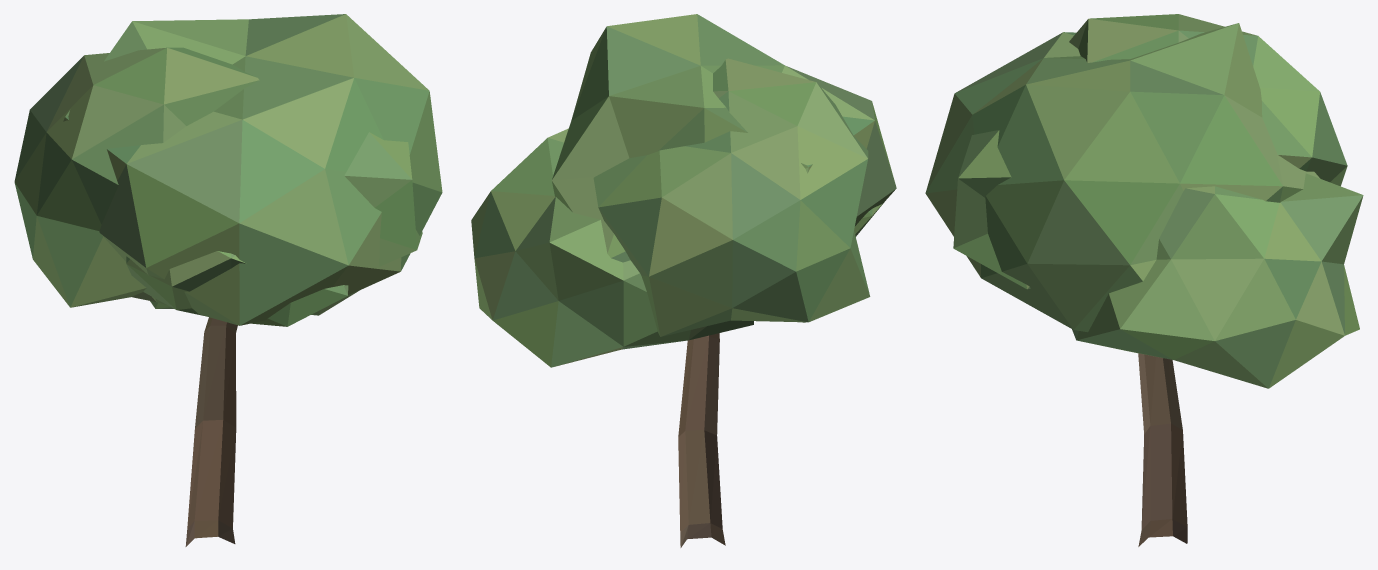
The model's file is Tree_Broadleaf_03.glb.
The picture shows the model from 3 angles, left to right: view 1: azimuth 30°, elevation 25°; view 2: azimuth 150°, elevation 25°; view 3: azimuth 270°, elevation 25°; orthographic projection. The views are drawn at different scales.
Visible parts, largest first — view 1: Tree_Broadleaf_03; view 2: Tree_Broadleaf_03; view 3: Tree_Broadleaf_03.
Part boxes in pixels (<box>): Tree_Broadleaf_03: <box>14,14,442,546</box>; Tree_Broadleaf_03: <box>471,14,896,547</box>; Tree_Broadleaf_03: <box>925,14,1363,546</box>.
Size of the model in its own units: 7.08 by 9.01 by 6.99.
